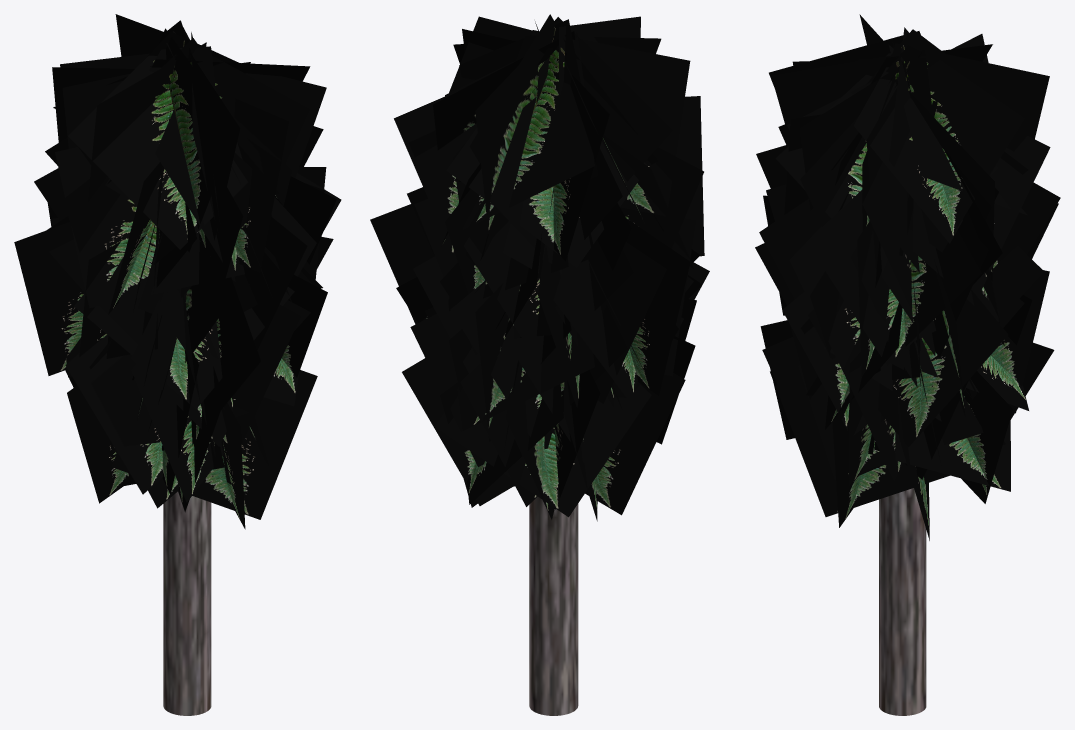
File: tree.glb
3 renders of one model, left to right at view 1: azimuth 30°, elevation 25°; view 2: azimuth 150°, elevation 25°; view 3: azimuth 270°, elevation 25°, orthographic. The views are drawn at different scales.
Parts seen in each view (by area): view 1: tree, Plane60, Plane_00158, Plane61, Plane49, Plane_00160, Plane57, Plane_00144, Plane70, Plane_00151, Plane_00166, Plane52 (+35 smaller); view 2: tree, Plane68, Plane_00165, Plane52, Plane_00168, Plane61, Plane46, Plane12, Plane_00156, Plane63, Plane_00161, Plane37 (+43 smaller); view 3: tree, Plane_00167, Plane55, Plane67, Plane29, Plane_00129, Plane_0014, Plane_00143, Plane_00164, Plane64, Plane56, Plane_00149 (+49 smaller).
Boxes of the visible parts, <box> form: tree: <box>163,491,211,715</box>; Plane60: <box>68,31,247,249</box>; Plane_00158: <box>55,147,244,307</box>; Plane61: <box>14,222,84,375</box>; Plane49: <box>111,370,317,519</box>; Plane_00160: <box>159,28,237,252</box>; Plane57: <box>234,98,289,272</box>; Plane_00144: <box>91,354,178,508</box>; Plane70: <box>74,287,294,408</box>; Plane_00151: <box>65,334,162,494</box>; Plane_00166: <box>131,364,223,502</box>; Plane52: <box>87,42,206,202</box>; tree: <box>529,496,578,715</box>; Plane68: <box>445,31,594,229</box>; Plane_00165: <box>434,385,651,517</box>; Plane52: <box>532,30,690,216</box>; Plane_00168: <box>475,22,559,240</box>; Plane61: <box>626,218,690,395</box>; Plane46: <box>585,373,685,515</box>; Plane12: <box>554,17,671,181</box>; Plane_00156: <box>394,90,476,263</box>; Plane63: <box>446,128,647,267</box>; Plane_00161: <box>553,260,637,402</box>; Plane37: <box>579,242,666,403</box>; tree: <box>879,488,926,715</box>; Plane_00167: <box>906,60,1024,251</box>; Plane55: <box>878,289,1008,447</box>; Plane67: <box>853,67,962,243</box>; Plane29: <box>806,190,920,365</box>; Plane_00129: <box>904,230,981,346</box>; Plane_0014: <box>771,50,925,138</box>; Plane_00143: <box>762,337,885,489</box>; Plane_00164: <box>895,418,1010,491</box>; Plane64: <box>961,371,1012,503</box>; Plane56: <box>973,136,1050,288</box>; Plane_00149: <box>770,371,949,516</box>.
Bounding box in the file's own units: 11.06 × 23.54 × 10.19.
2 materials, 2 textured.
